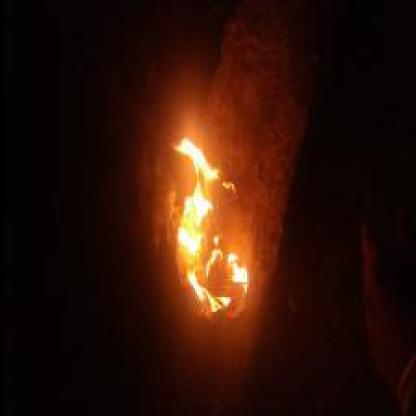Fire: (160, 126, 252, 331)
